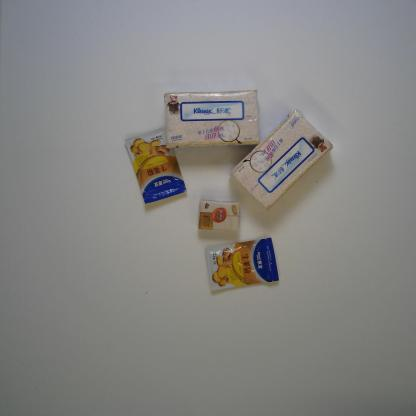Seasoner: (124, 126, 189, 208), (204, 236, 280, 296)
Tissue: (229, 107, 335, 211), (162, 88, 262, 149), (196, 198, 242, 235)
